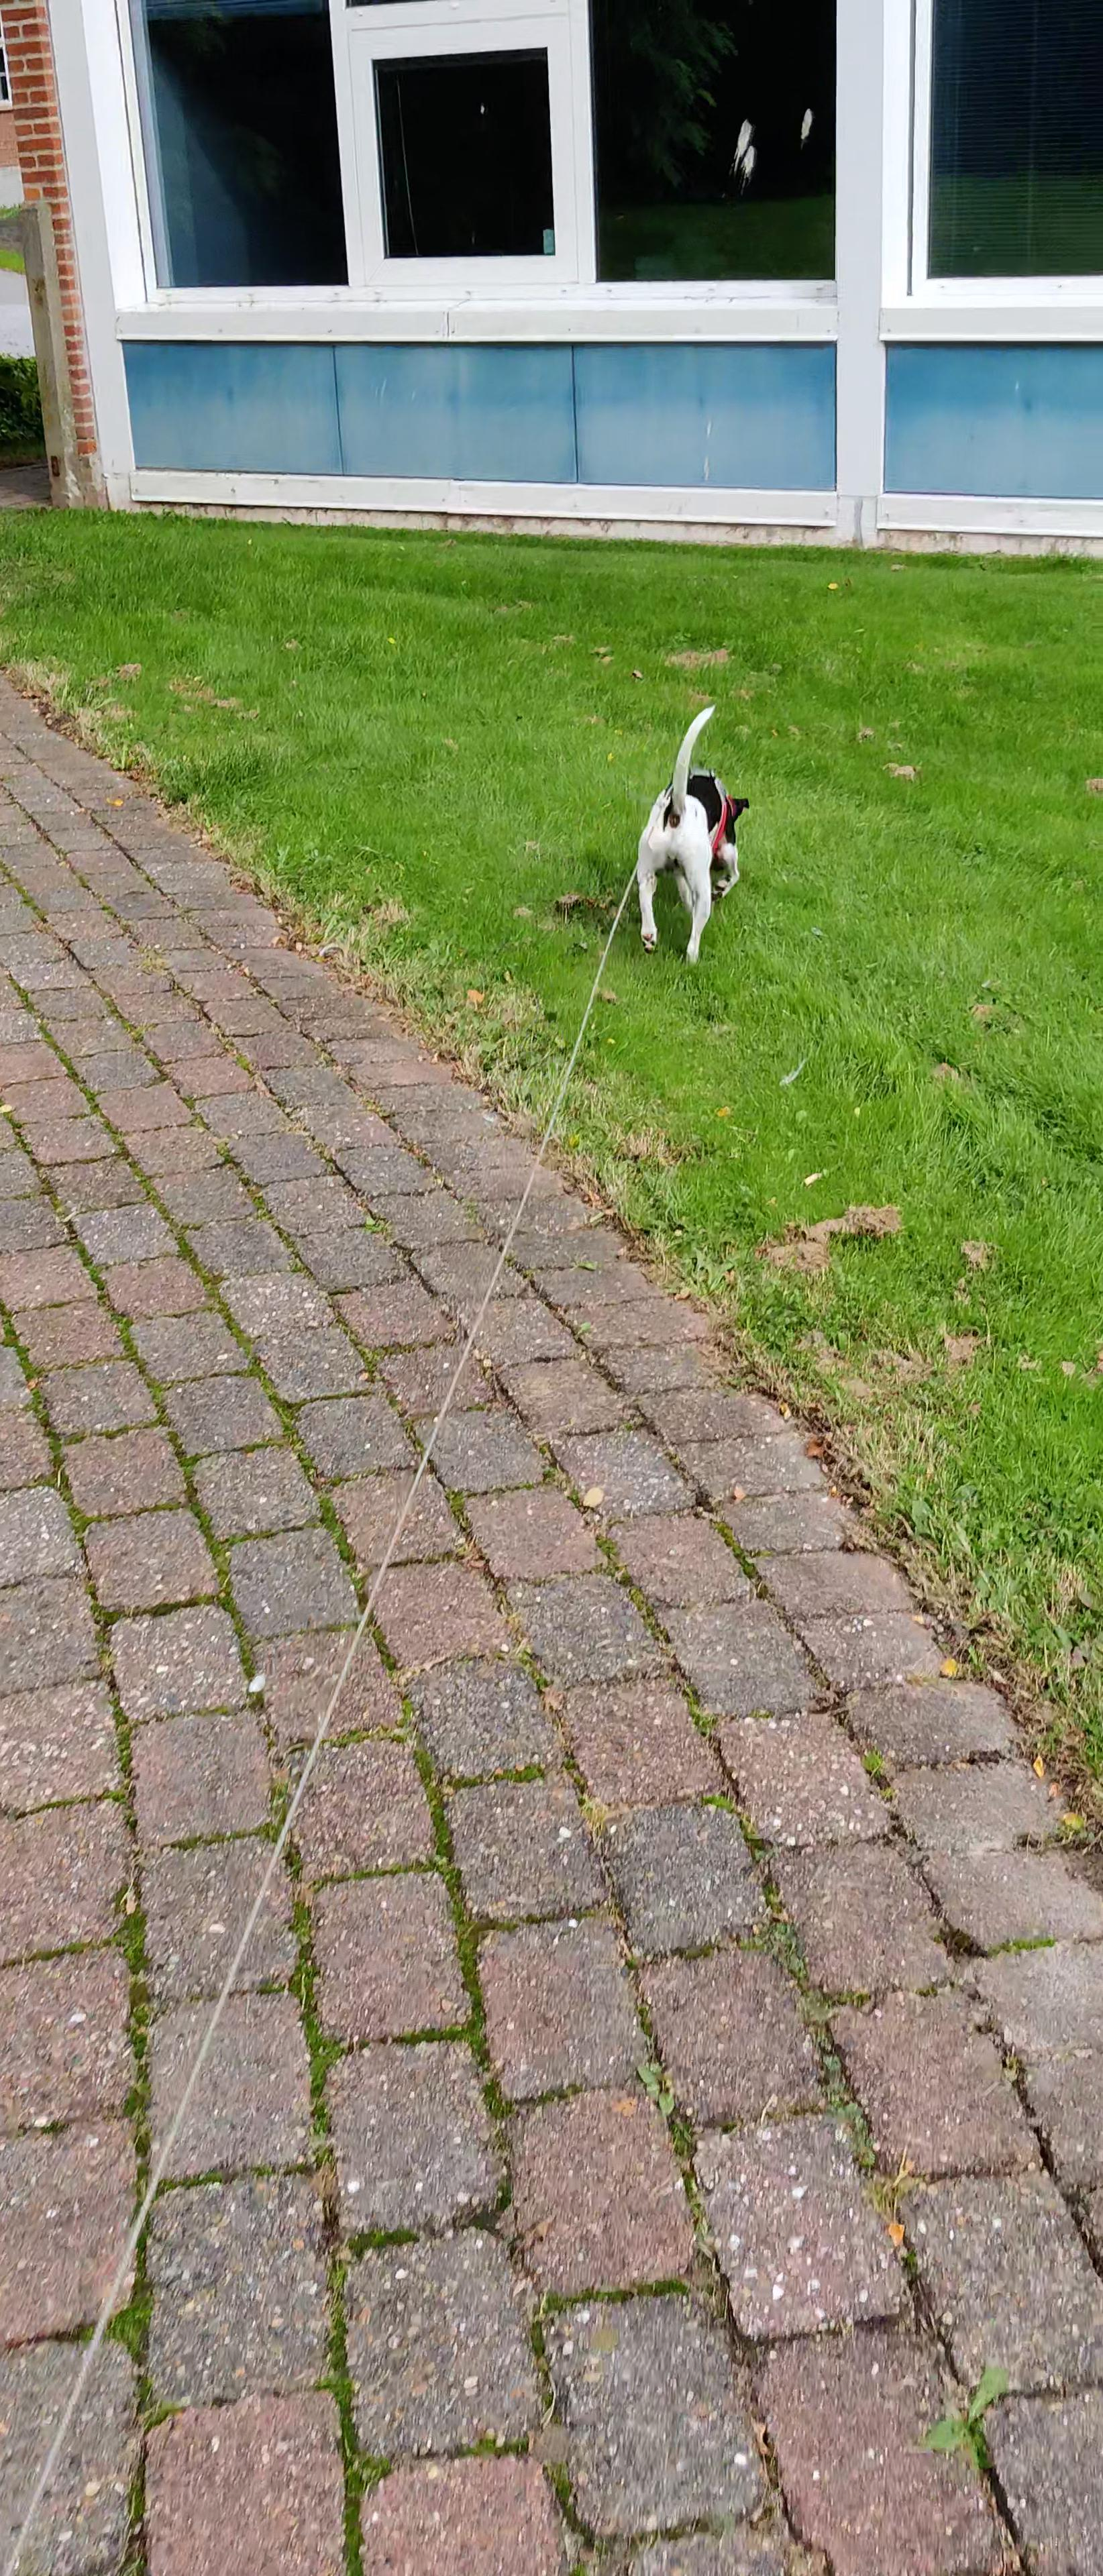Dog: (636, 703, 753, 966)
